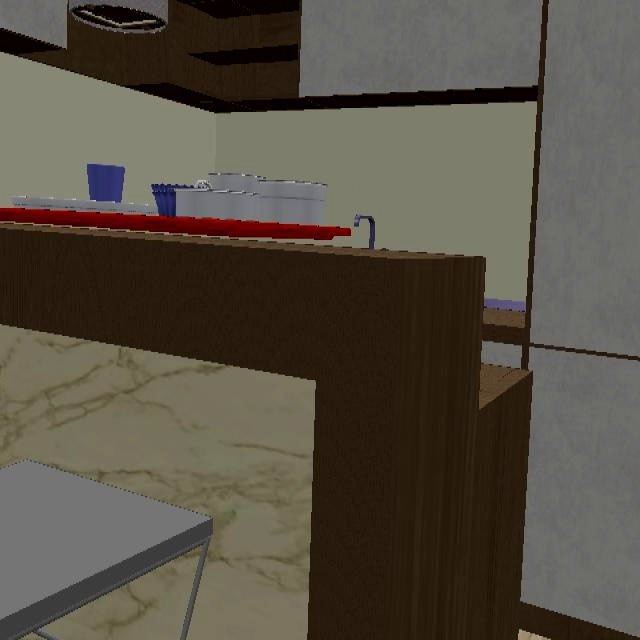cabinet: (31, 0, 640, 640)
